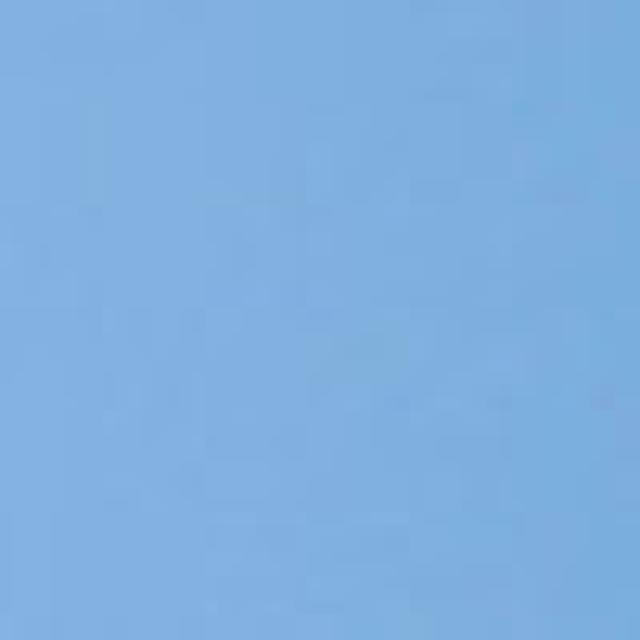no_fire: (25, 38, 640, 639)
